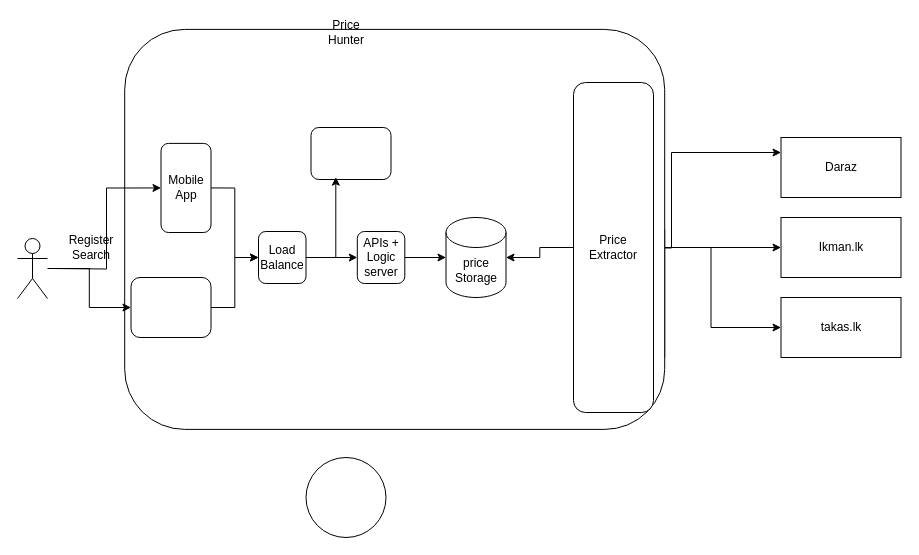
Image size: 919x555. Some labels were removed from this diagram. The centre of each missing label's shape, as x and y in pixels:
"Actor" belongs at pixel 32 268.
"Identity Managemnt" belongs at pixel 350 153.
"Monitoring System" belongs at pixel 345 497.
"Web site" belongs at pixel 170 307.
